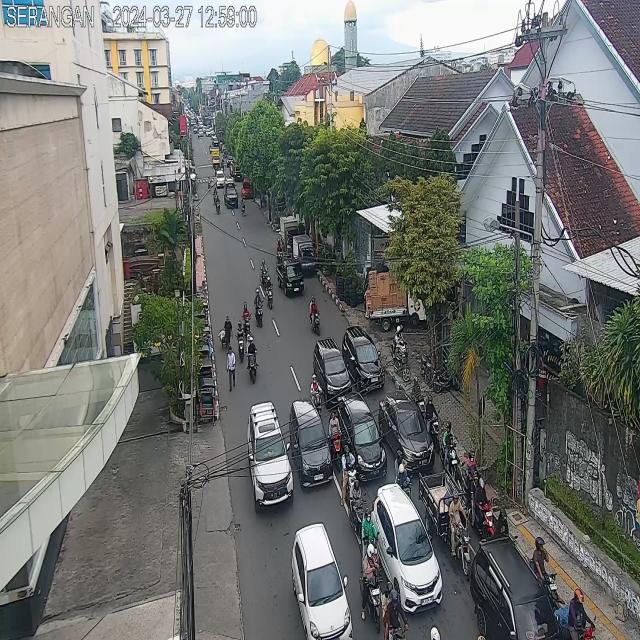car: (470, 537, 563, 640), (373, 482, 443, 611), (289, 520, 354, 640), (248, 401, 293, 510), (380, 392, 436, 474), (337, 392, 387, 480), (290, 399, 334, 487), (341, 326, 387, 392), (314, 336, 354, 410), (226, 188, 239, 208), (241, 181, 252, 200)
motorcycle: (428, 474, 474, 576), (528, 534, 562, 615), (557, 585, 600, 640), (359, 544, 383, 632), (469, 470, 496, 545), (382, 582, 407, 640), (338, 442, 358, 507), (440, 419, 460, 482), (360, 507, 379, 572), (460, 451, 480, 508), (392, 446, 412, 503), (348, 480, 367, 533), (327, 407, 342, 472), (424, 391, 440, 451), (496, 507, 515, 555), (310, 372, 324, 423), (410, 373, 425, 420), (247, 334, 260, 384), (308, 294, 321, 336), (253, 288, 265, 328), (241, 302, 253, 341), (264, 273, 276, 311), (258, 256, 270, 290), (236, 321, 245, 364), (276, 240, 283, 262), (215, 196, 222, 214), (240, 198, 246, 216), (213, 187, 218, 204)
truck: (276, 257, 304, 298), (294, 234, 316, 276), (280, 216, 300, 256)
